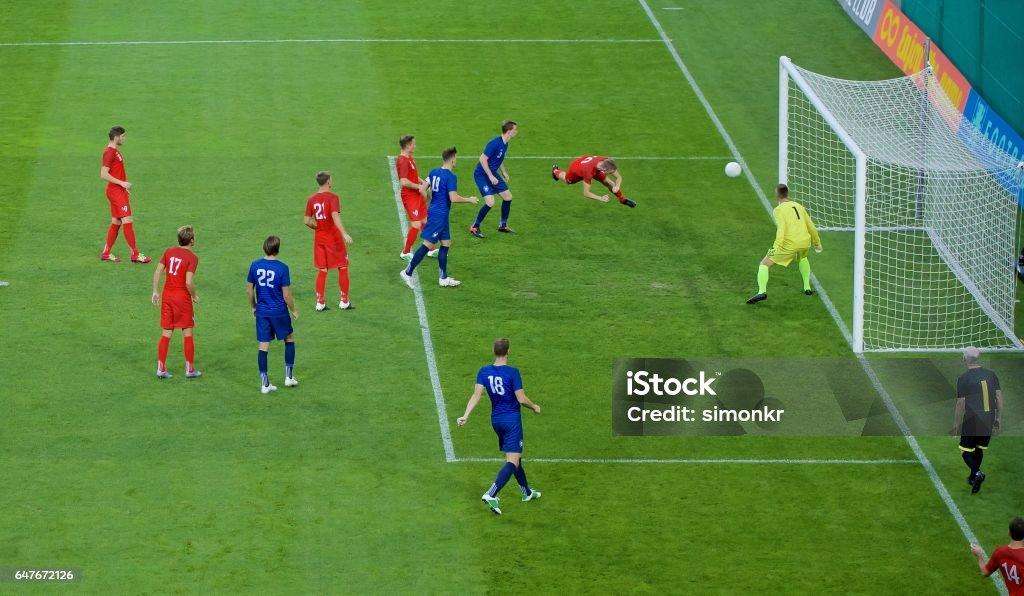Goalkeeper: (748, 182, 822, 304)
Player: (456, 338, 542, 514), (400, 148, 478, 288), (246, 236, 298, 393), (152, 226, 202, 378), (100, 126, 150, 263), (304, 170, 352, 311), (470, 120, 518, 238), (390, 134, 428, 261), (970, 516, 1024, 596), (552, 156, 636, 207)
ball: (730, 144, 762, 191), (724, 166, 732, 175)
